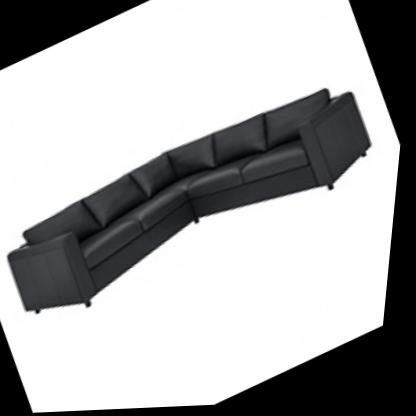Sofa: (0, 57, 400, 348)
